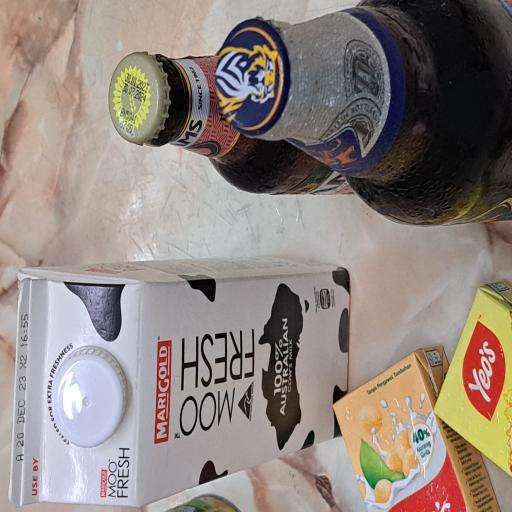drink carton: (4, 12, 192, 469), (0, 442, 124, 512)
glass bottle: (212, 285, 384, 512), (237, 142, 344, 474)
plastic bottle cap: (50, 67, 124, 171)
